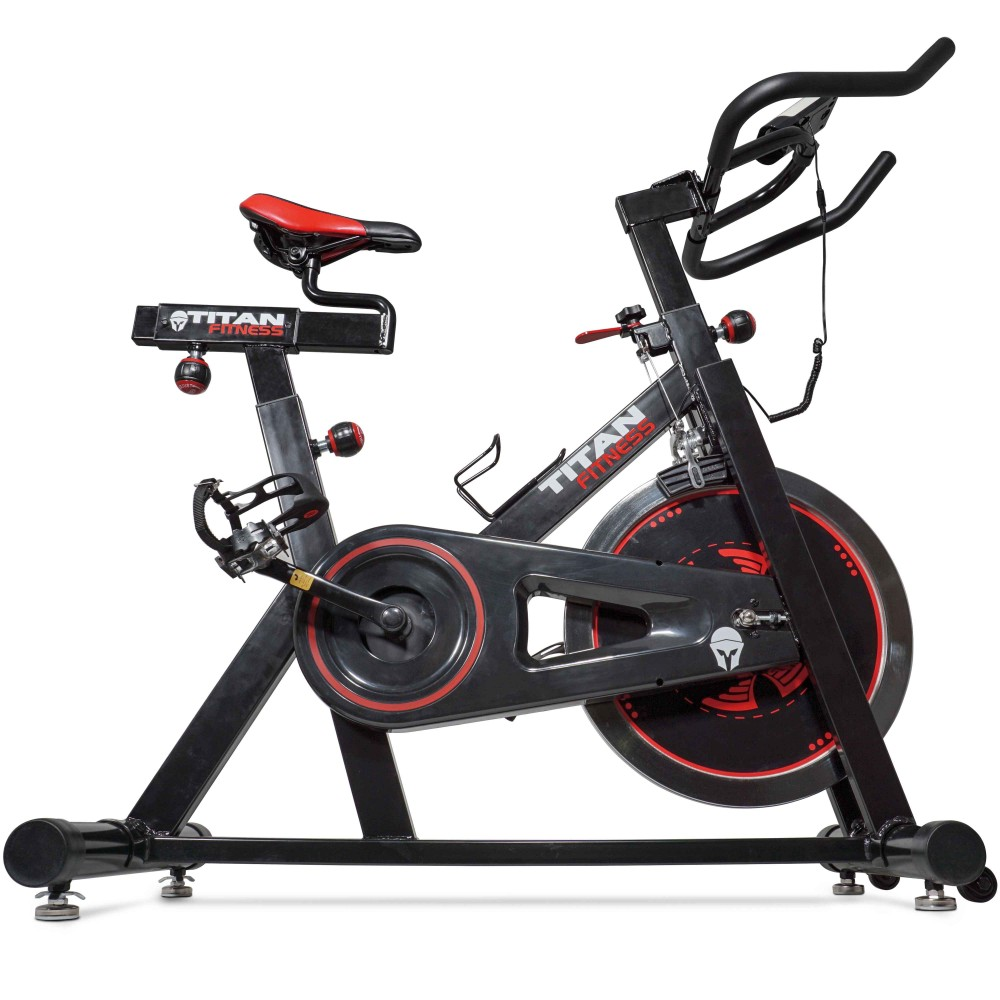gym_bike: (1, 42, 996, 937)
